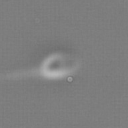normal: (1, 64, 43, 92)
